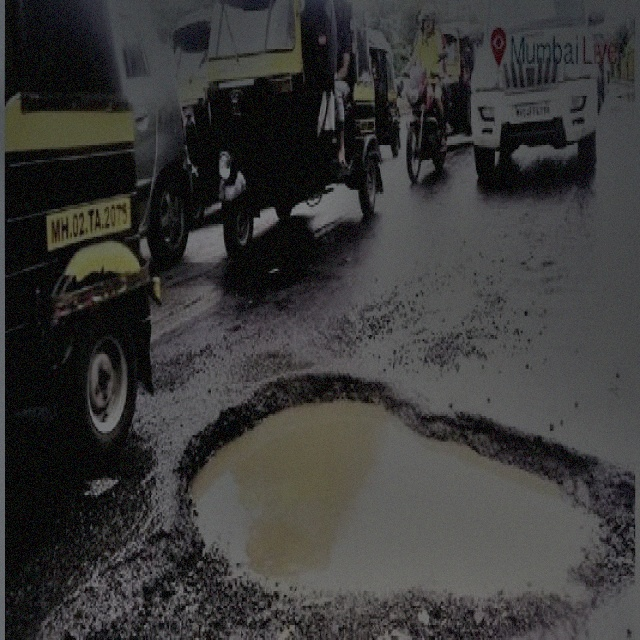pothole: (173, 367, 636, 638)
